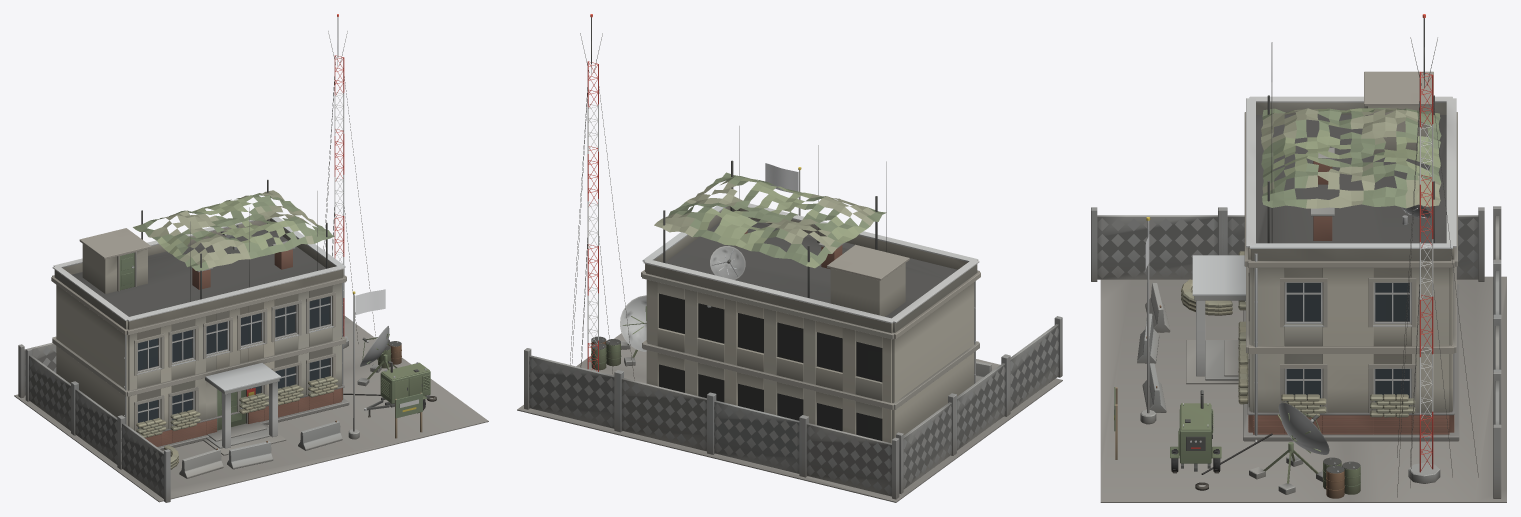
File: struct_hq_rus.glb
3 renders of one model, left to right at view 1: azimuth 30°, elevation 25°; view 2: azimuth 150°, elevation 25°; view 3: azimuth 270°, elevation 25°, orthographic. The views are drawn at different scales.
Visible parts, largest first — view 1: struct_hq_rus; view 2: struct_hq_rus; view 3: struct_hq_rus.
Boxes of the visible parts, bbox=[...] form: struct_hq_rus: bbox=[14, 14, 488, 502]; struct_hq_rus: bbox=[517, 14, 1062, 502]; struct_hq_rus: bbox=[1091, 14, 1506, 502].
Bounding box in the file's own units: 16.8 × 16.16 × 13.1.
